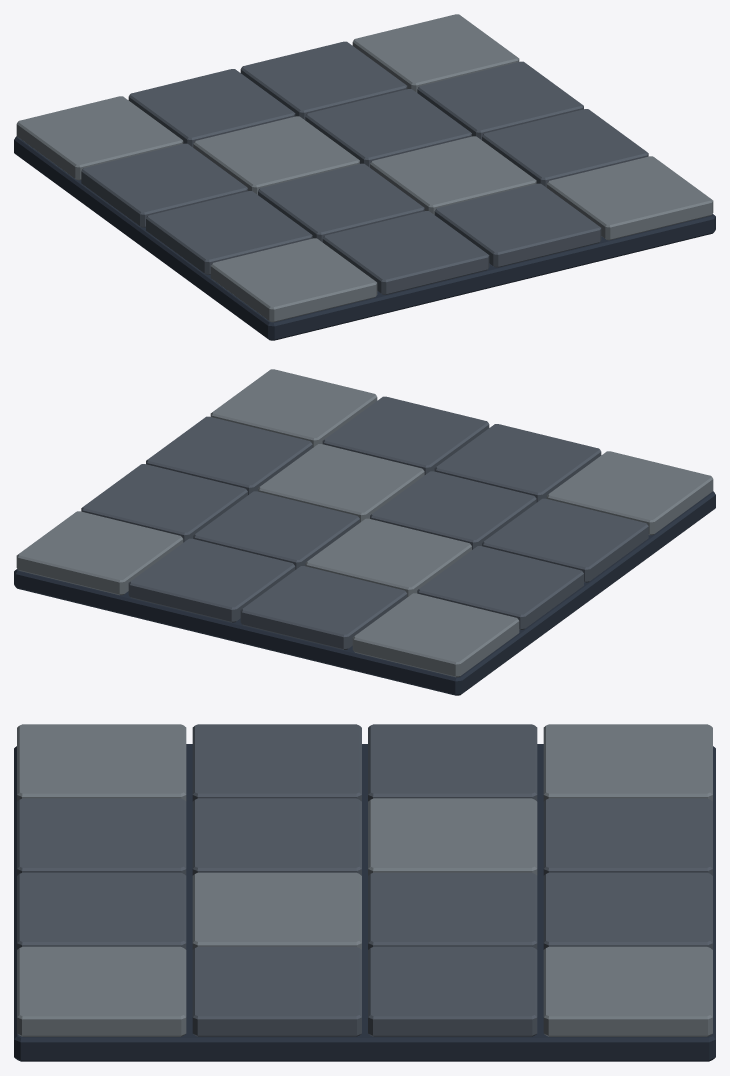
File: floor-worn.glb
The picture shows the model from 3 angles, top to bottom: view 1: azimuth 30°, elevation 25°; view 2: azimuth 150°, elevation 25°; view 3: azimuth 270°, elevation 25°; orthographic projection. The views are drawn at different scales.
Visible parts, largest first — view 1: floor-worn__body; view 2: floor-worn__body; view 3: floor-worn__body.
Part boxes in pixels (<box>): floor-worn__body: <box>14,14,715,340</box>; floor-worn__body: <box>14,369,715,695</box>; floor-worn__body: <box>14,724,715,1061</box>.
Size of the model in its own units: 2 by 0.14 by 2.
